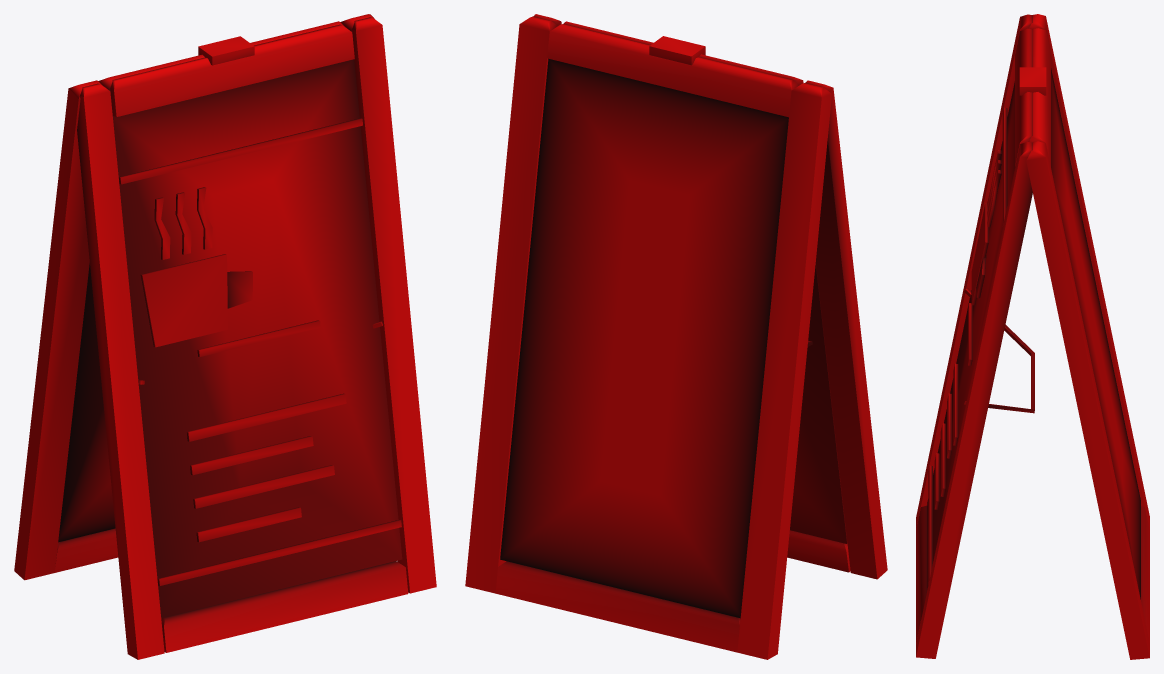
File: CI_Cafe_Sign_AFrame.glb
The picture shows the model from 3 angles, left to right: view 1: azimuth 30°, elevation 25°; view 2: azimuth 150°, elevation 25°; view 3: azimuth 270°, elevation 25°; orthographic projection. The views are drawn at different scales.
Parts seen in each view (by area): view 1: CI_Cafe_Sign_AFrame; view 2: CI_Cafe_Sign_AFrame; view 3: CI_Cafe_Sign_AFrame.
Boxes of the visible parts, box(x1,y1,x2,y2) form: CI_Cafe_Sign_AFrame: box(14, 14, 436, 659); CI_Cafe_Sign_AFrame: box(465, 14, 887, 659); CI_Cafe_Sign_AFrame: box(916, 14, 1149, 659).
Size of the model in its own units: 0.5 by 0.844 by 0.3495.
